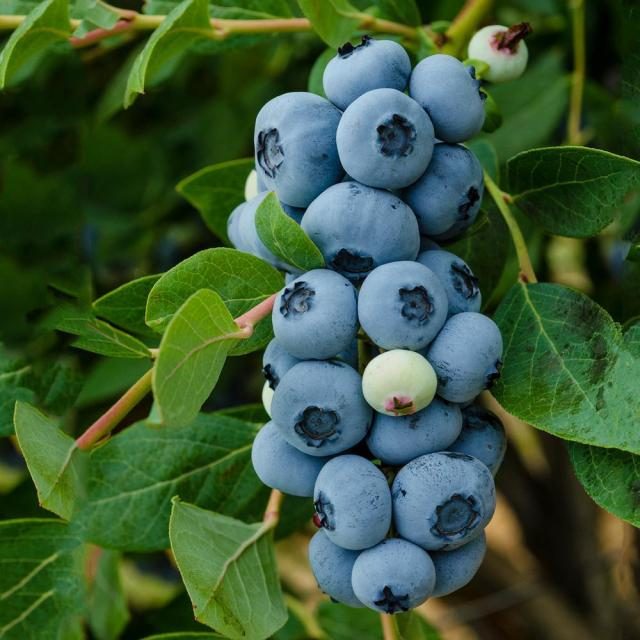BlueBerry - v1: (294, 178, 431, 286), (324, 82, 443, 198), (250, 90, 352, 212), (393, 46, 493, 153), (392, 452, 500, 548), (267, 353, 372, 451), (352, 253, 451, 356), (273, 264, 362, 367), (404, 140, 489, 233), (308, 453, 390, 549), (430, 308, 510, 406), (324, 37, 418, 120), (351, 542, 444, 625), (248, 415, 349, 484), (358, 346, 441, 424), (371, 398, 471, 462), (246, 196, 310, 278), (418, 245, 486, 320), (429, 521, 489, 605), (309, 534, 373, 609), (472, 24, 538, 82), (453, 408, 508, 476), (220, 204, 254, 261)
